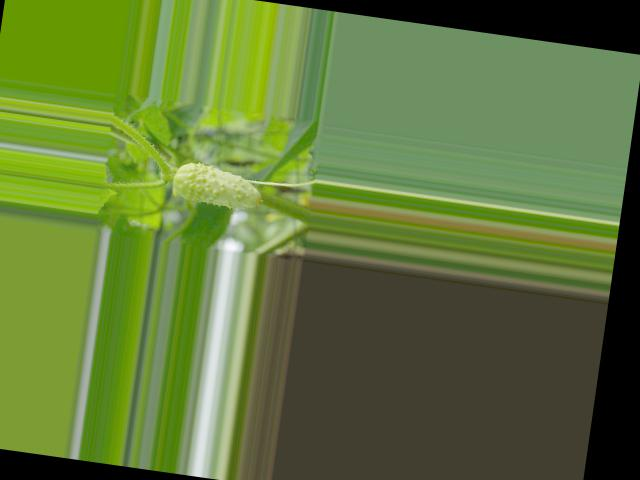cucumber: (170, 159, 267, 211)
